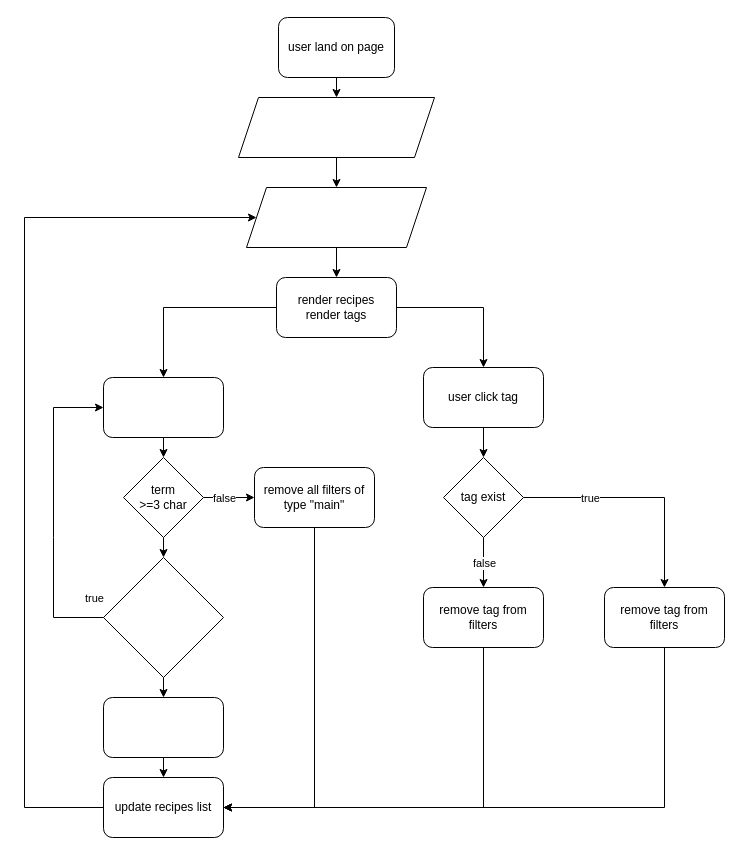
This 742x855 diagram has some shape labels left out. The shapes that lost their labels are listed below. From the top down, each one's centre as x and y in pixels, then its label:
[336,127]: init recipes list with all recipes
[336,217]: get tags from recipes list
[163,407]: user enter term
[163,617]: term is filtered and is same type
[163,727]: add term of type "main" to filters
